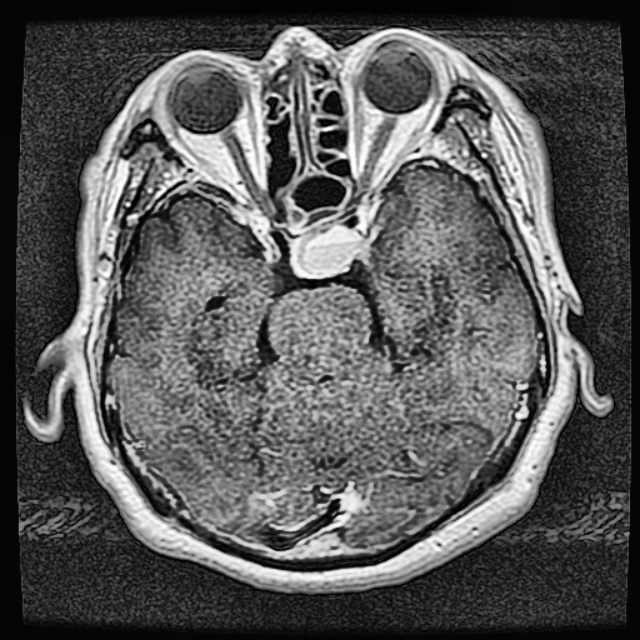Pituitary: (290, 227, 368, 279)
